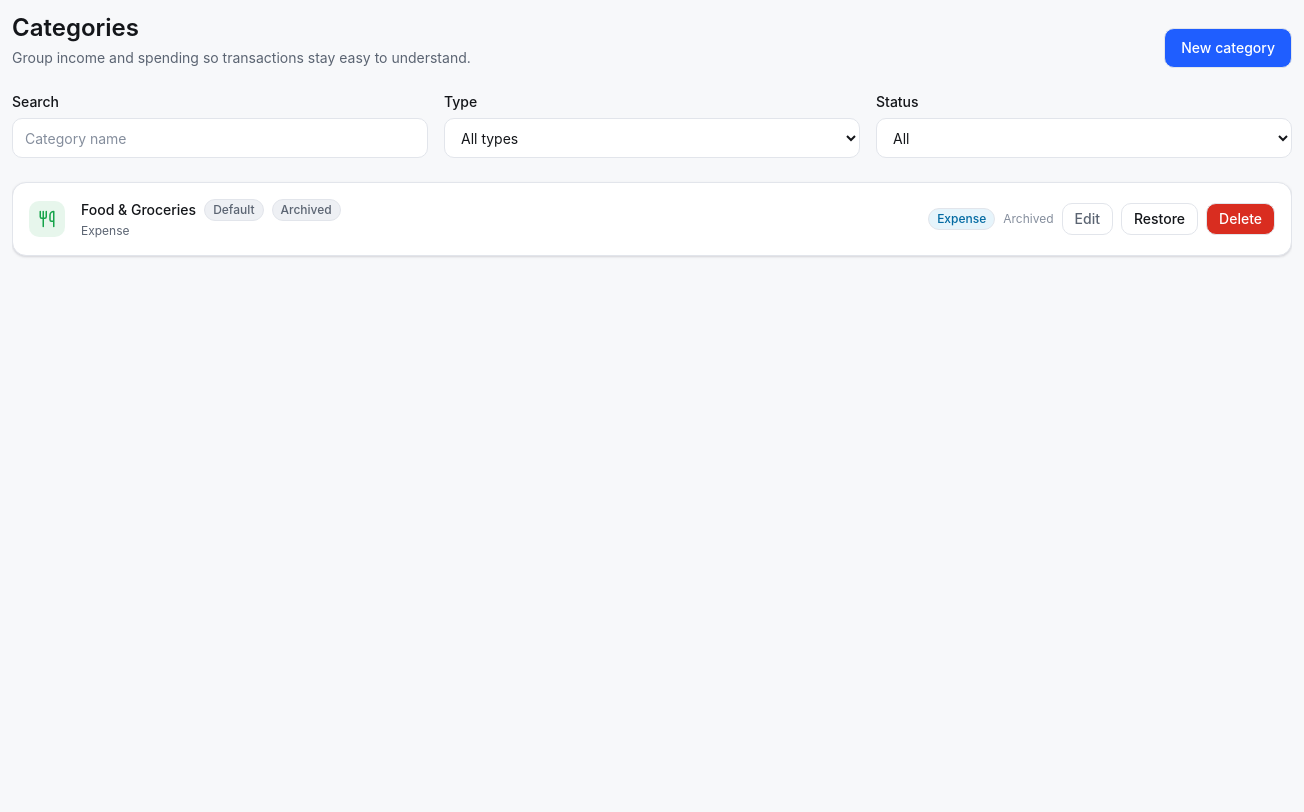
Test: CategoriesPage › restores an archived category
Expected: the text "Food & Groceries" is shown, [81,201,196,218]
Click the button "Restore".
click(1160, 219)  # box [1121,203,1198,235]
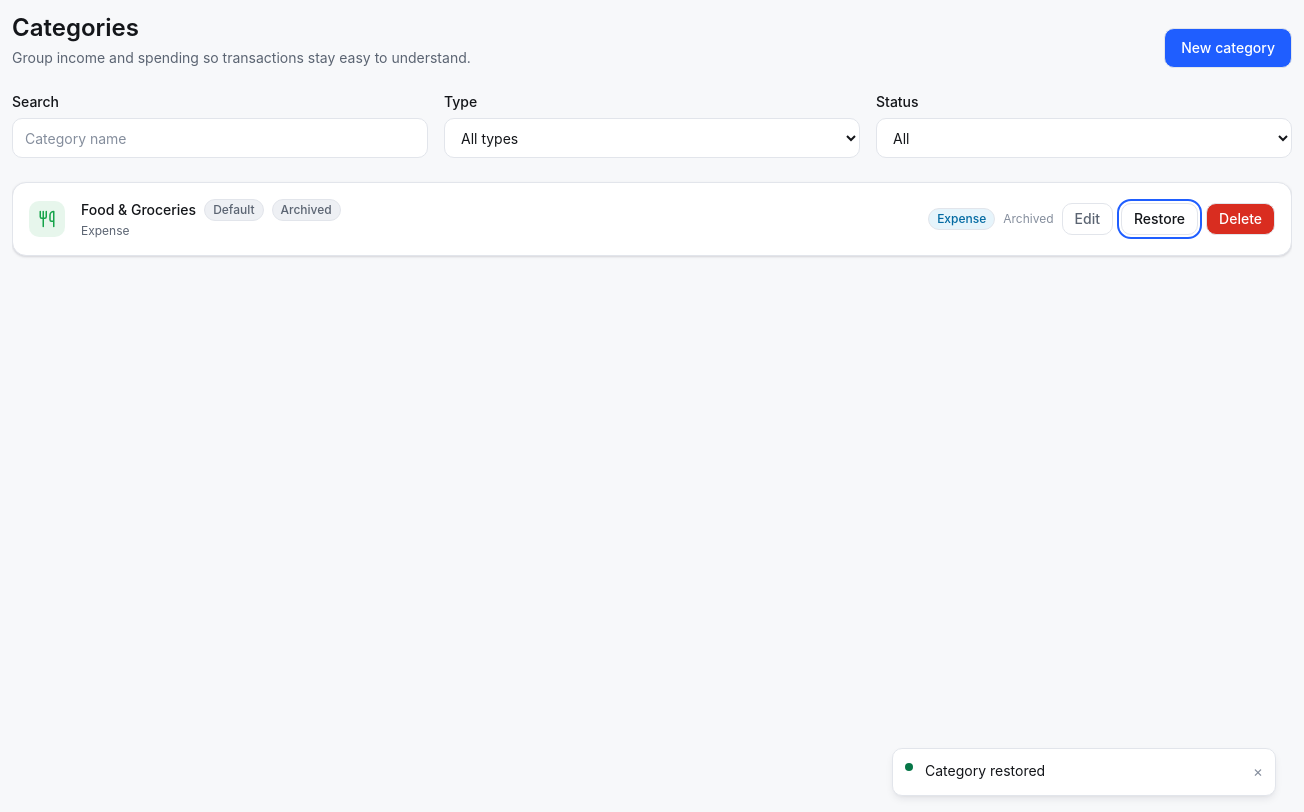
Expected: the text "Category restored" is shown, [925,762,1045,778]
